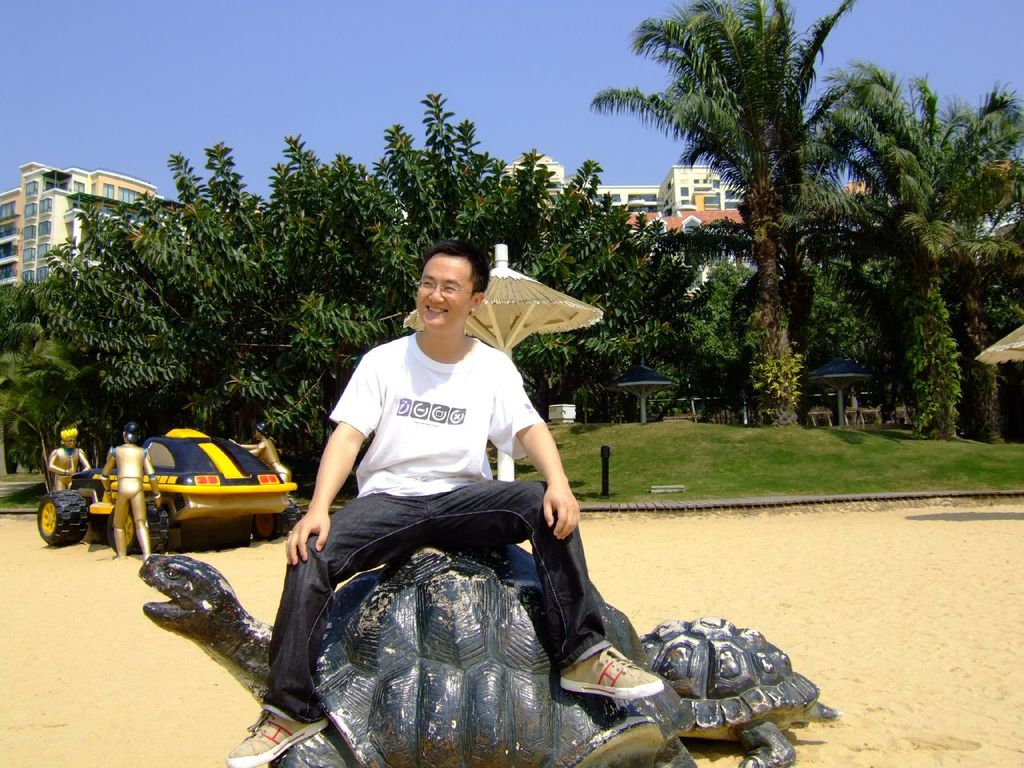Sea turtles: (138, 539, 704, 767), (636, 611, 839, 767)
